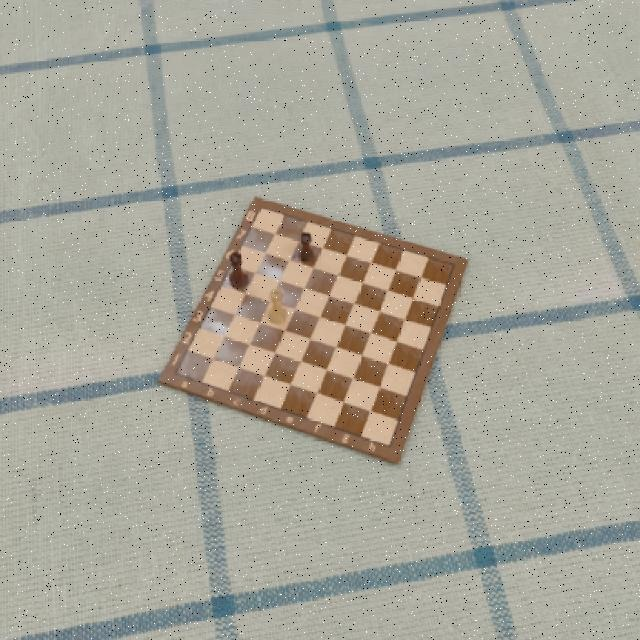black-king: (226, 250, 250, 288)
black-rook: (297, 232, 315, 262)
white-king: (267, 287, 290, 324)
